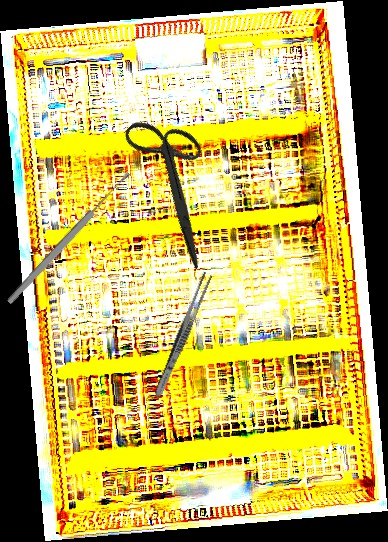Dressing Forceps: (151, 270, 214, 400)
Iris Scissors: (87, 100, 261, 271)
Surgical Spoon: (5, 170, 133, 306)
